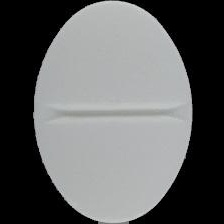59762-0049: (0, 0, 224, 224)
